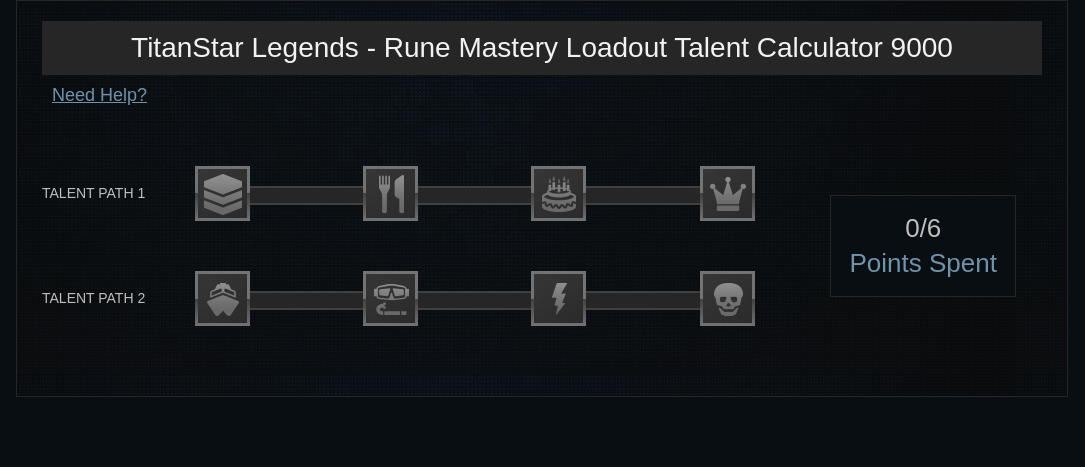
Scenario: <App /> shows error when talents aren't selected in order
Expected: the text "you must select your talents in order" is not shown
Note: Click an item without prerequisites
What coordinates should you click on to do the following:
click the button named "cake"
I would click on:
 (559, 193)
Its box is [531, 166, 586, 221].
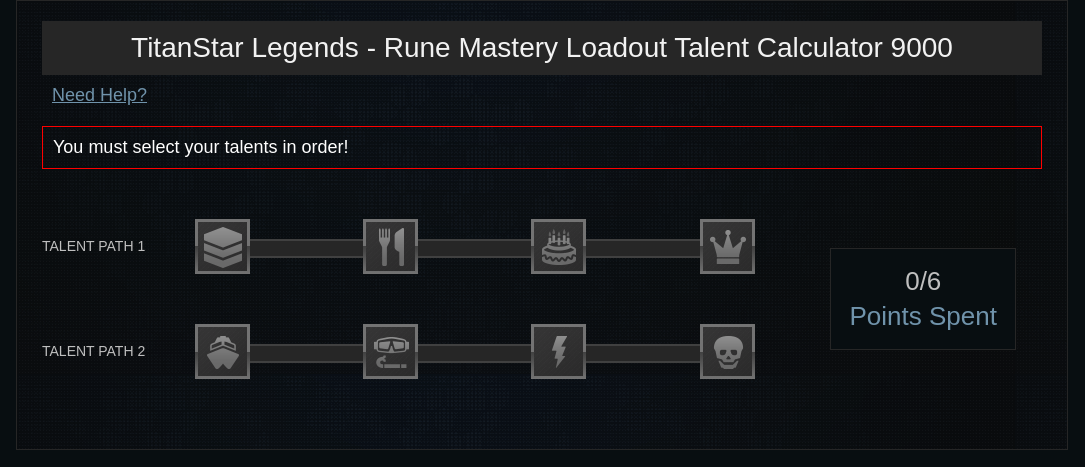
Expected: the text "You must select your talents in order!" is shown, [42, 126, 1042, 169]
